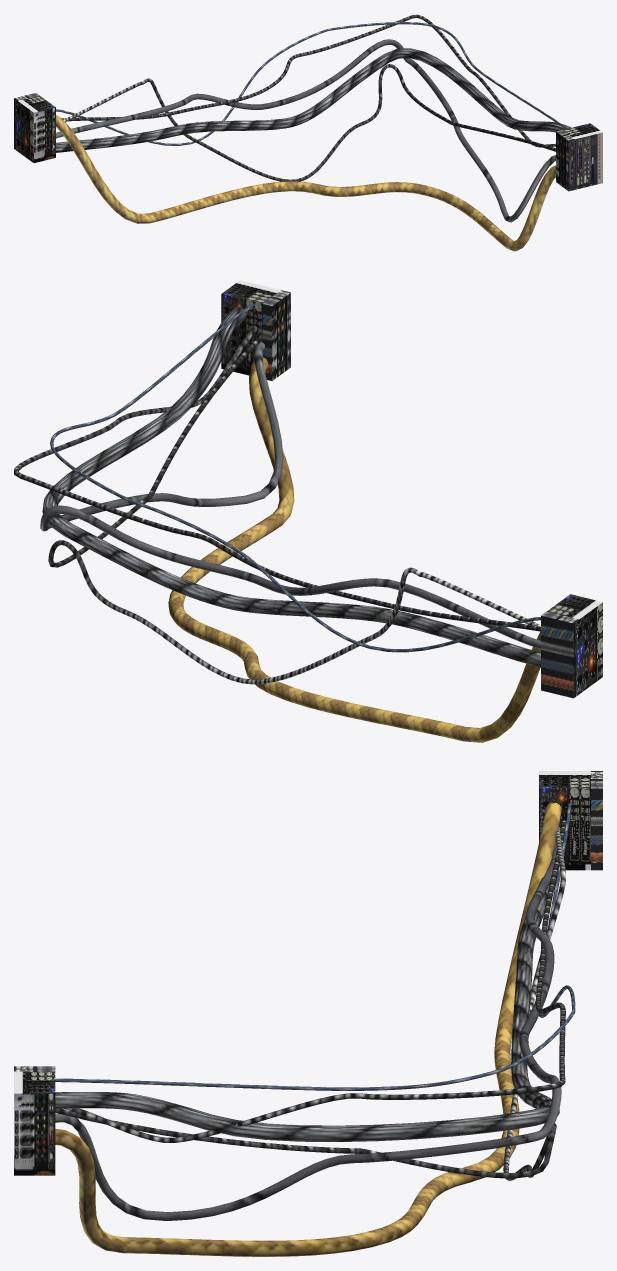
Rendered from kable_corner2.fbx.
3 renders of one model, top to bottom at view 1: azimuth 30°, elevation 25°; view 2: azimuth 150°, elevation 25°; view 3: azimuth 270°, elevation 25°, orthographic. The views are drawn at different scales.
Visible parts, largest first — view 1: Cube.012; view 2: Cube.012; view 3: Cube.012.
Boxes of the visible parts, x1,y1,x2,y2 form: Cube.012: [14, 14, 602, 251]; Cube.012: [14, 280, 602, 742]; Cube.012: [14, 771, 602, 1256].
Size of the model in its own units: 830 by 256 by 643.
Materials: 1 (1 with a texture image).
